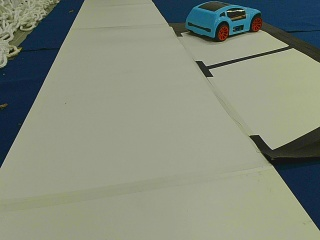car: (184, 3, 262, 40)
